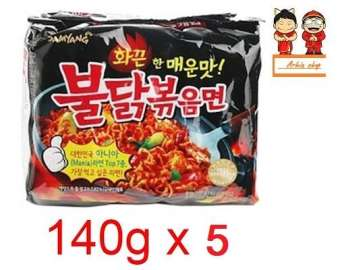Snack: (15, 5, 267, 211)
